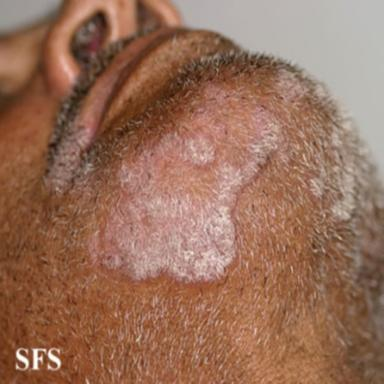Psoriasis: (91, 84, 278, 282), (311, 124, 356, 220), (271, 62, 306, 115)
